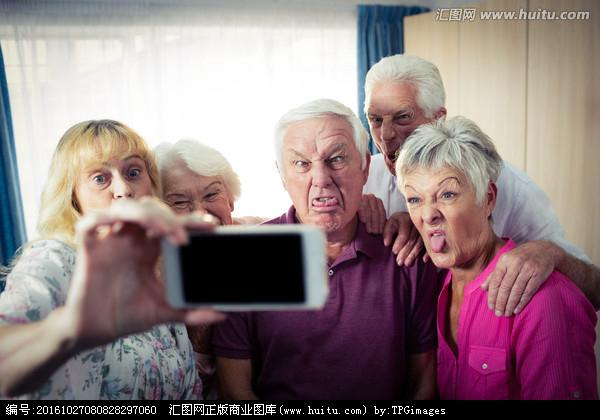taking photos: (66, 195, 332, 354)
